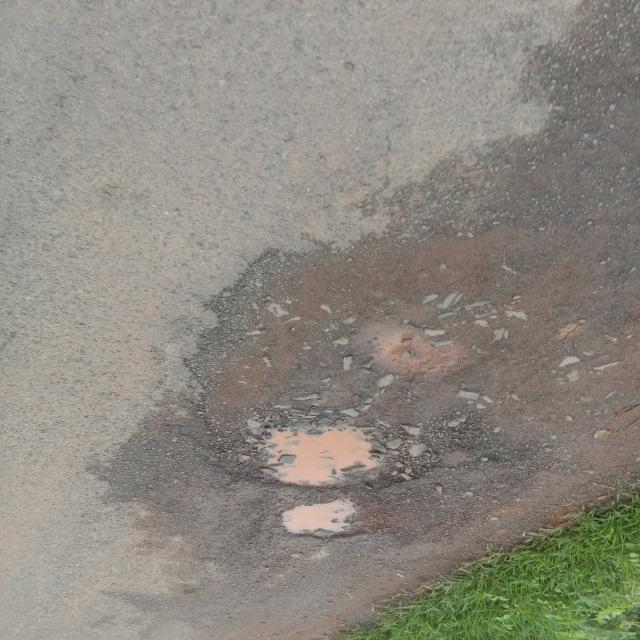potholes: (233, 412, 423, 496), (350, 314, 490, 384), (272, 496, 370, 542)
